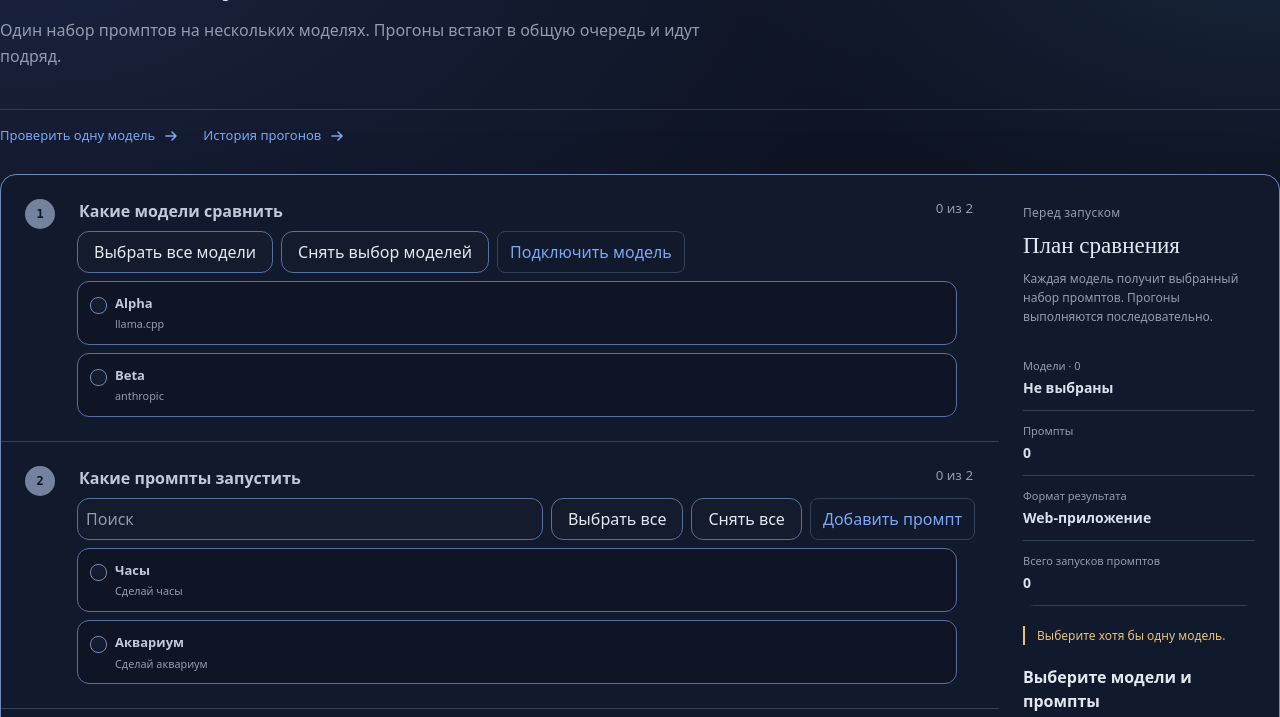
Scenario: форма массового запуска › не множит облачную модель на обвязки
The width and height of the screenshot is (1280, 717).
Expected: the text "Alpha" is shown, [115,294,153,312]
Click the checkbox labelled "Alpha llama.cpp".
click(98, 305)  # box [90,297,107,314]
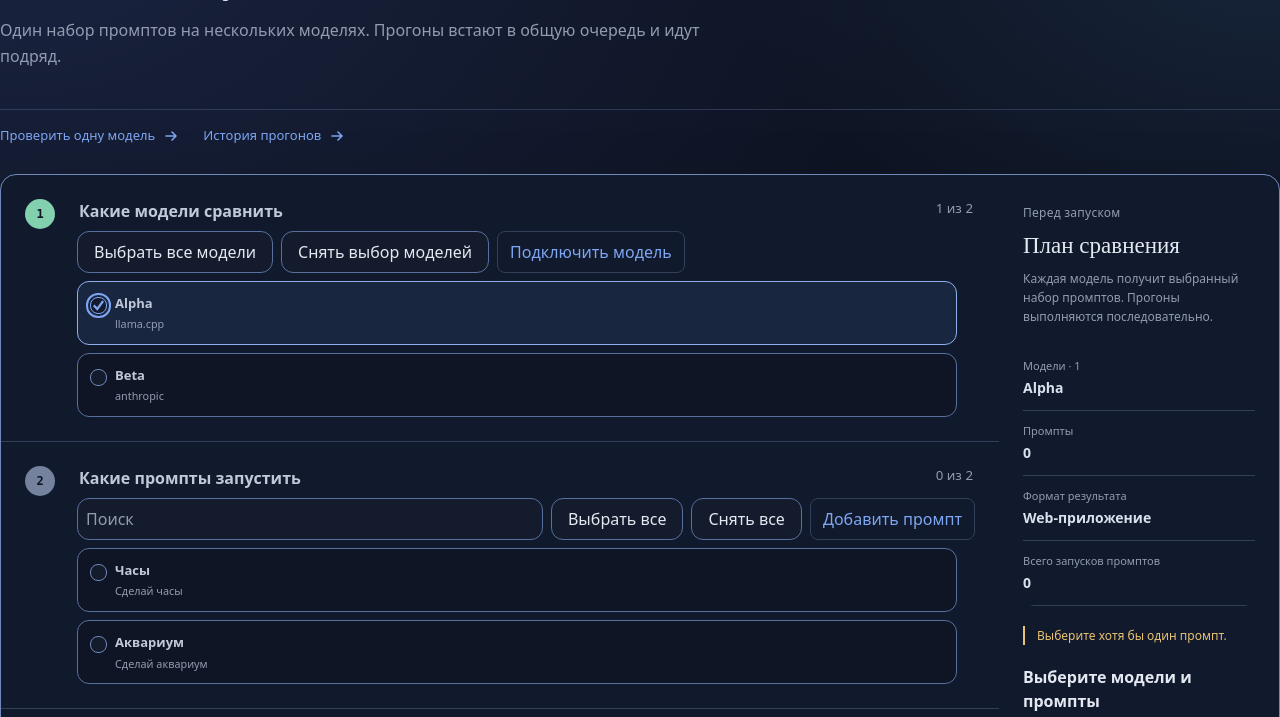
Click the checkbox labelled "Beta anthropic".
click(98, 377)  # box [90,369,107,386]
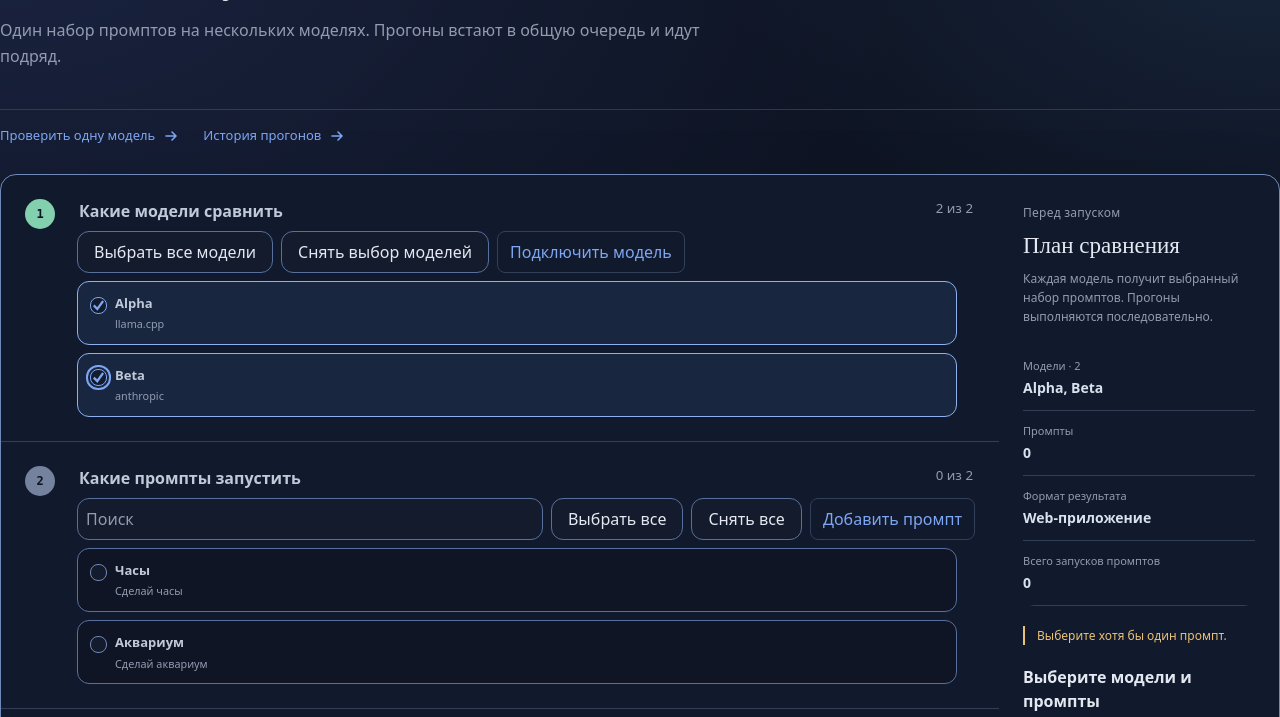
Click the checkbox labelled "Часы Сделай часы".
click(98, 572)  # box [90,564,107,581]
(page scrolled)
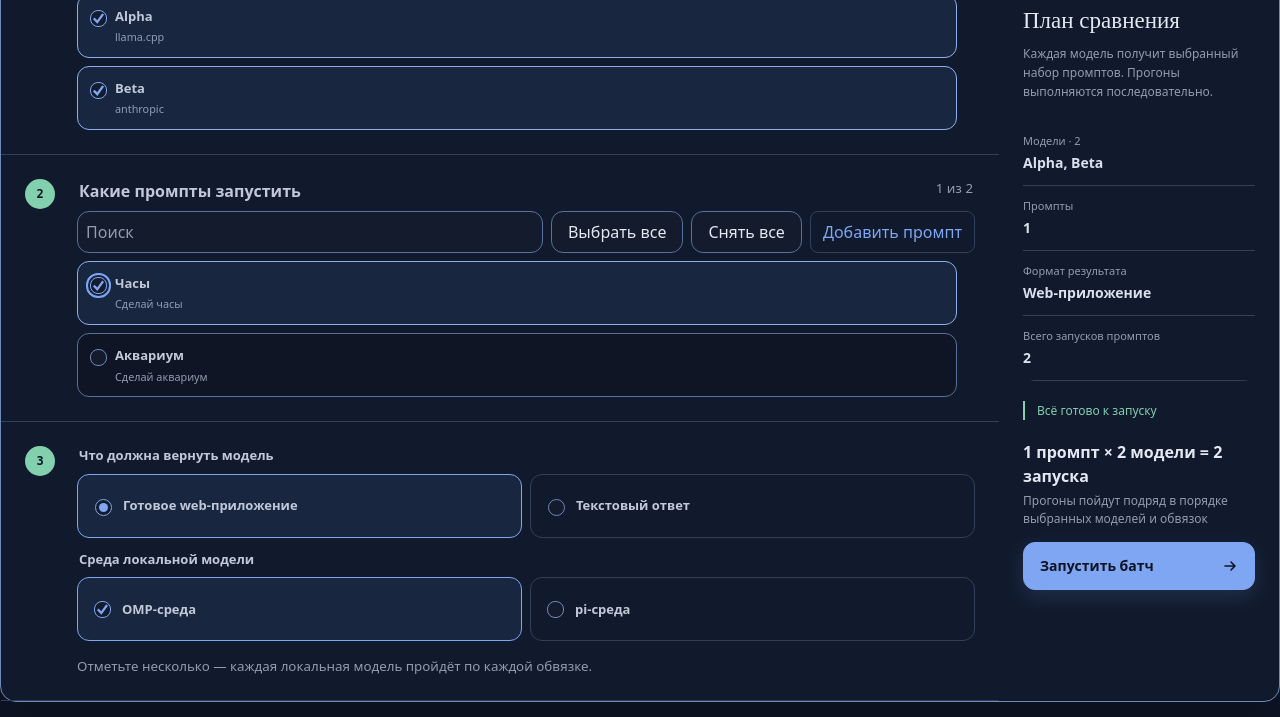
Click the checkbox labelled "pi-среда".
click(556, 609)  # box [547,601,564,618]
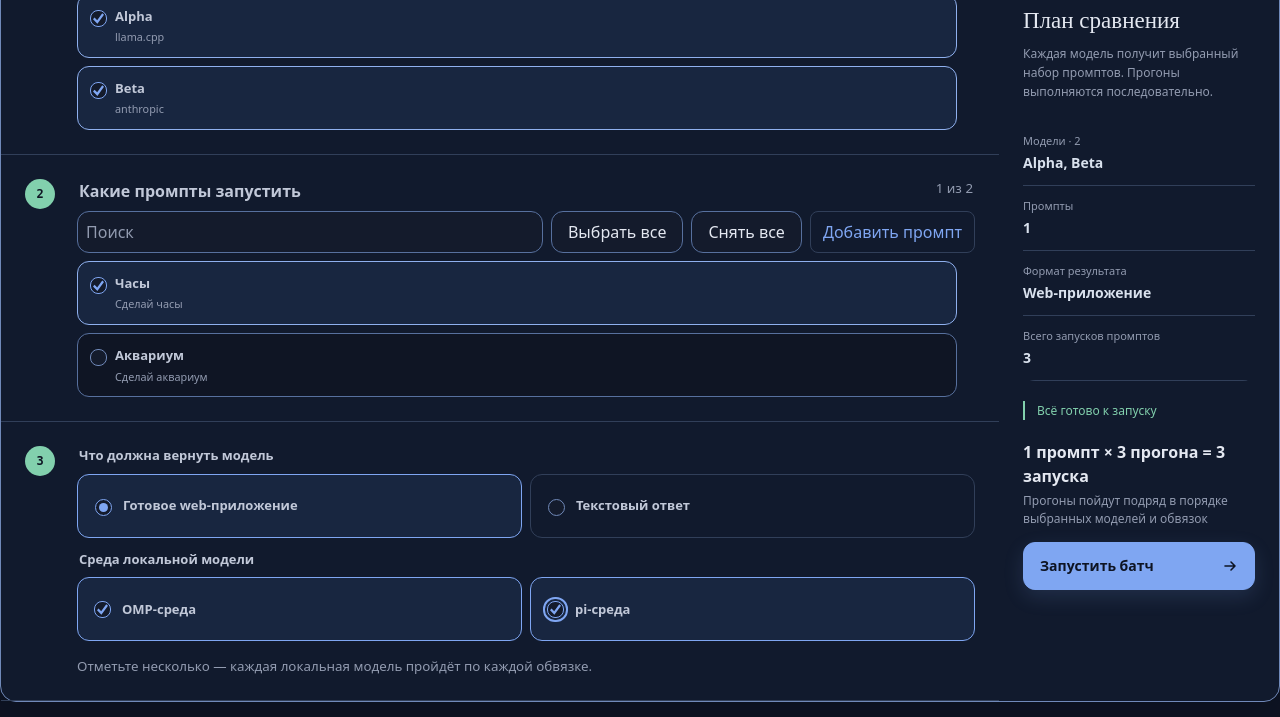
Expected: the text "1 промпт × 3 прогона = 3 запуска" is shown, [1023,440,1255,488]
